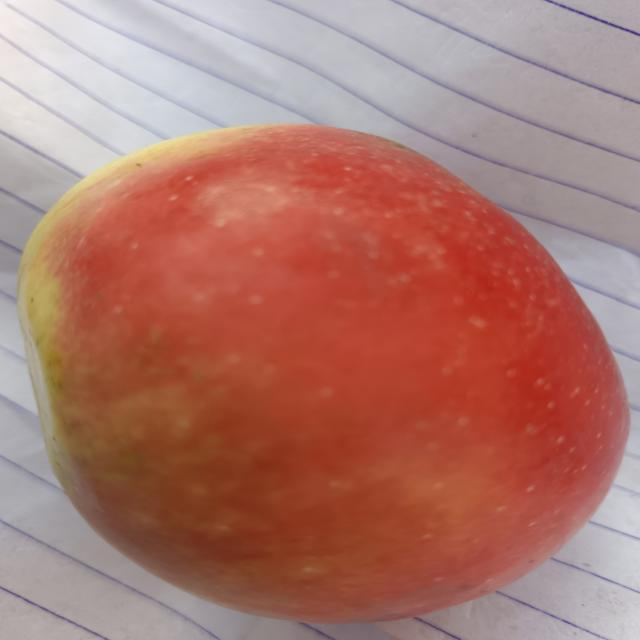Fresh Apple: (33, 132, 627, 625)
